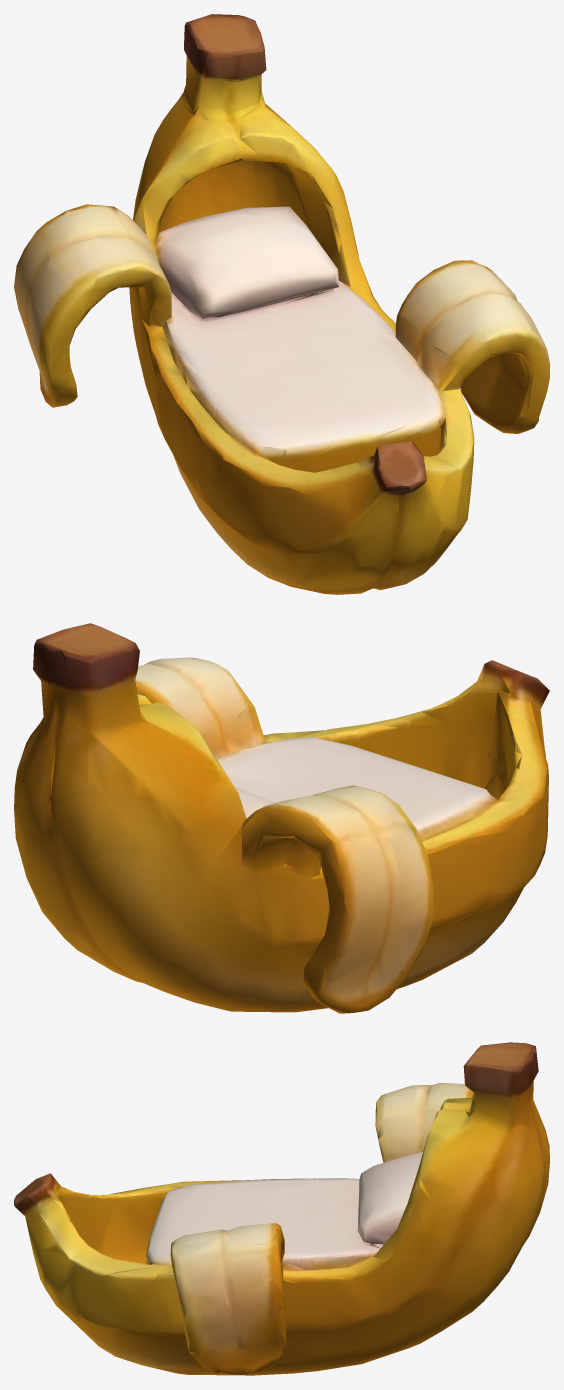
Rendered from bed05.glb.
3 views of the same model, one above another, from view 1: azimuth 30°, elevation 25°; view 2: azimuth 150°, elevation 25°; view 3: azimuth 270°, elevation 25° (orthographic). The views are drawn at different scales.
Bounding box in the file's own units: 0.2301 × 0.2174 × 0.3203.
Materials: 1 (1 with a texture image).
